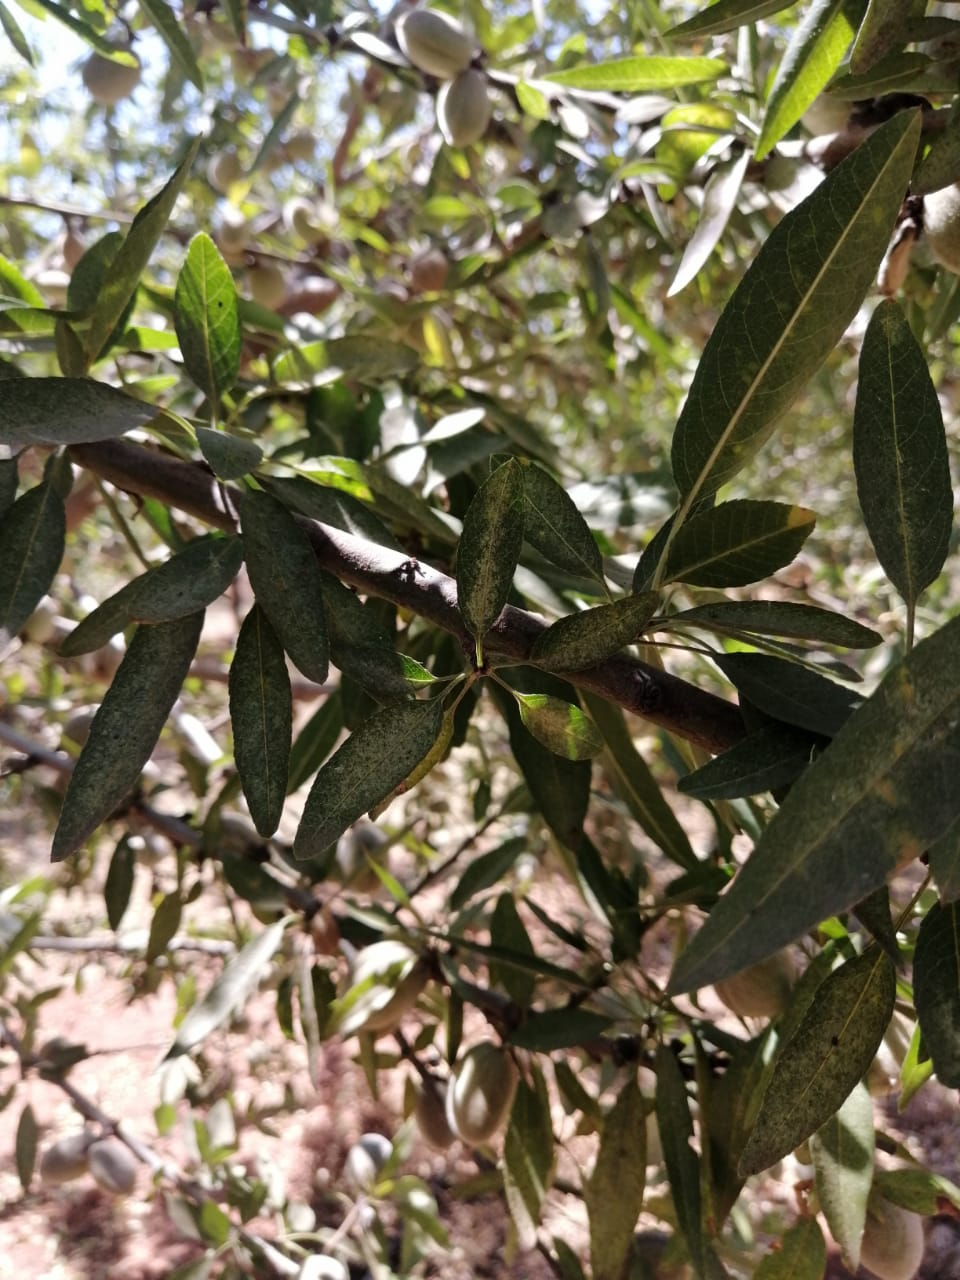acariens: (46, 606, 201, 867), (736, 944, 899, 1179), (291, 696, 444, 864), (240, 485, 333, 684), (228, 602, 294, 842), (517, 588, 669, 672), (459, 457, 528, 637)
